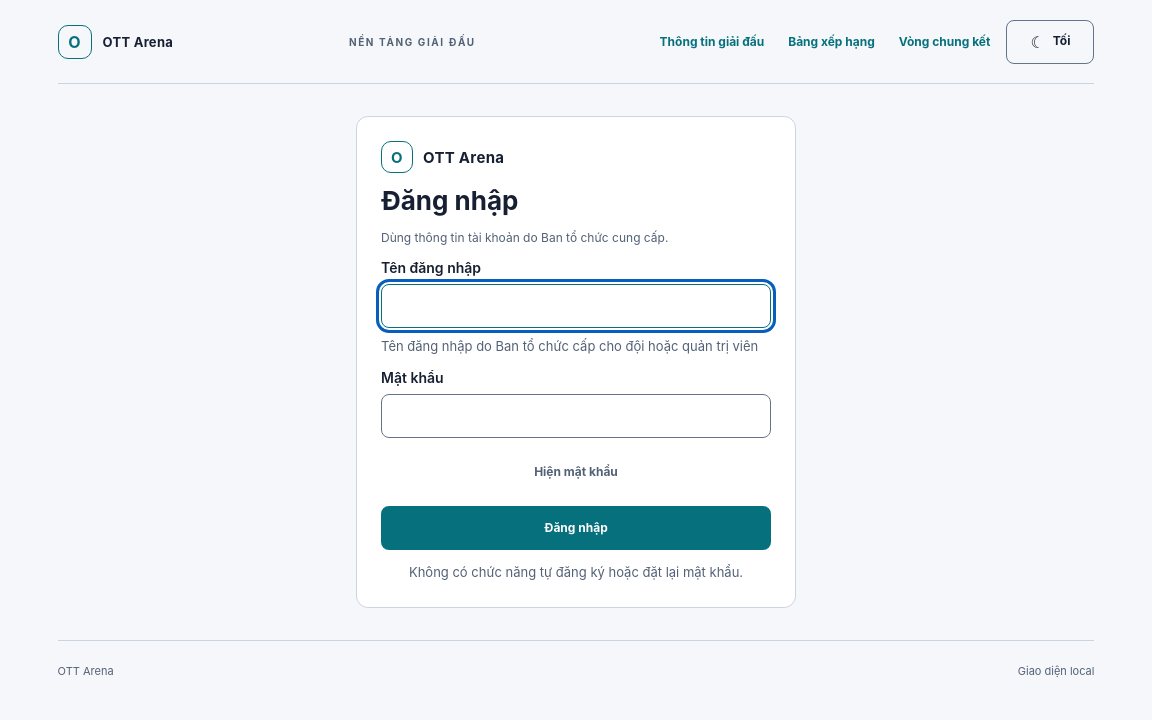
Test: authentication routes › explains rate limiting without exposing account existence
This screenshot has width=1152, height=720.
Type "unknown-user" into the field labelled "Tên đăng nhập" at x=576, y=306, box [381,284,771,328]
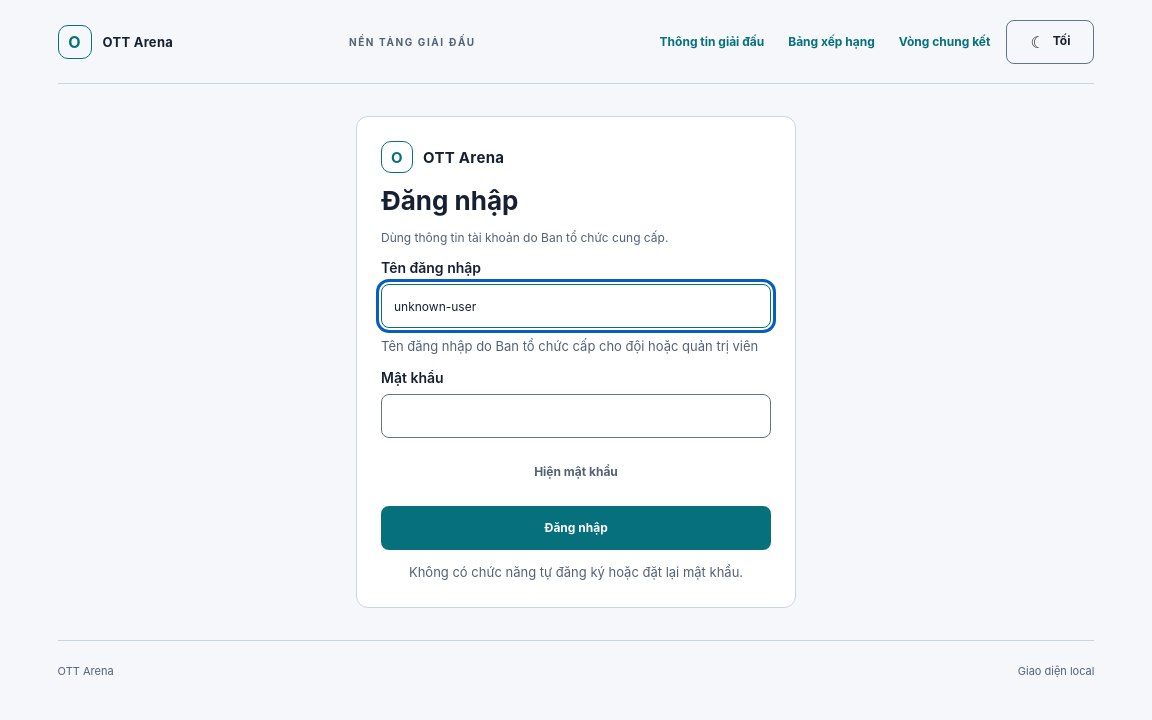
Type "any-password" into the password field labelled "Mật khẩu" at x=576, y=416, box [381,394,771,438]
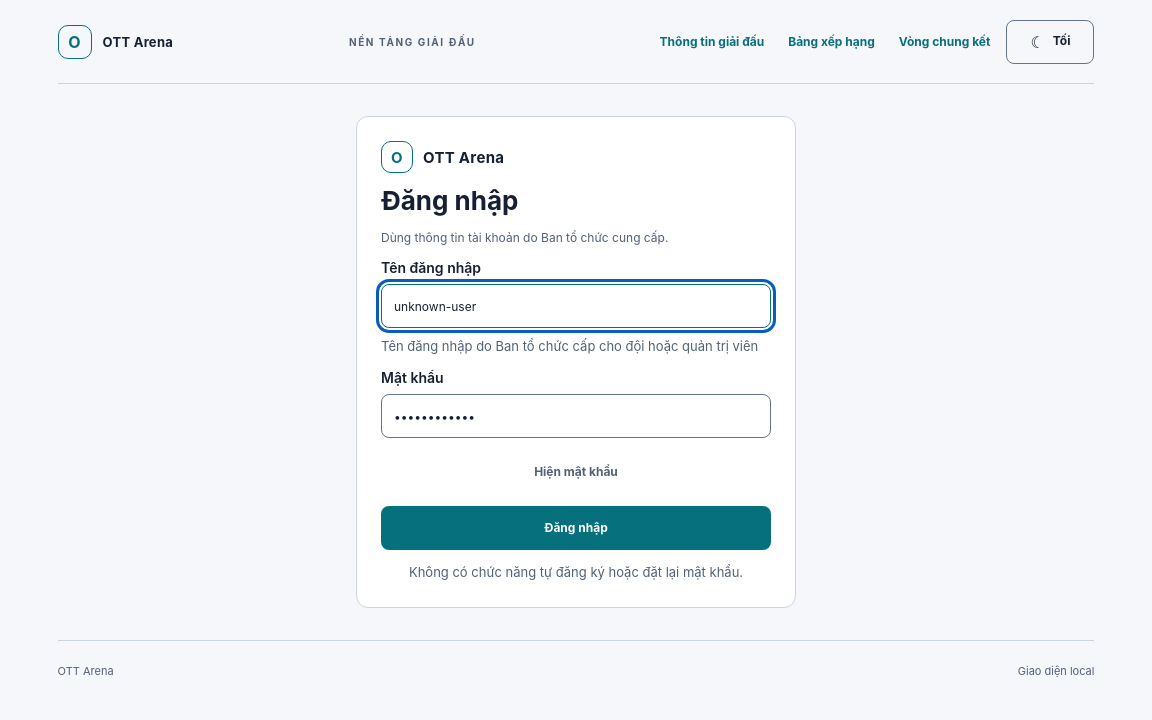
Submit the form "đăng nhập", box [381,259,771,550]
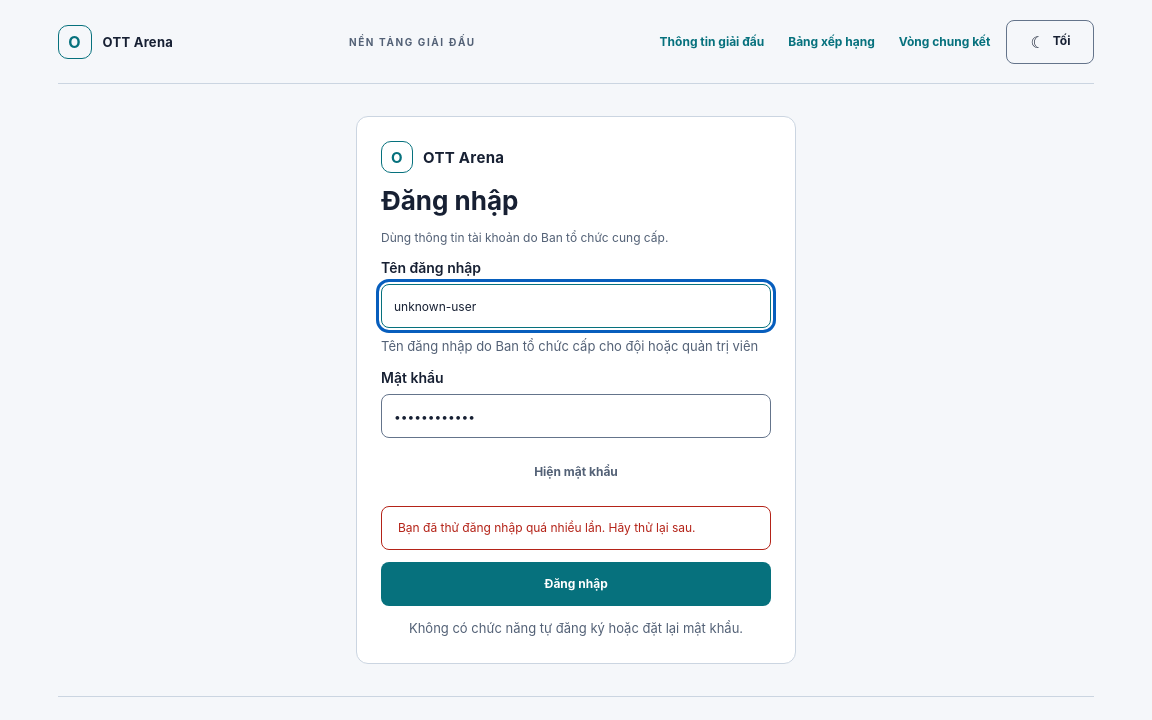
Expected: the message does not show "unknown-user"
Expected: the message "Bạn đã thử đăng nhập quá nhiều lần. Hãy thử lại sau." is shown, [381,506,771,550]
Expected: the message shows "thử lại sau", [398,520,696,535]
